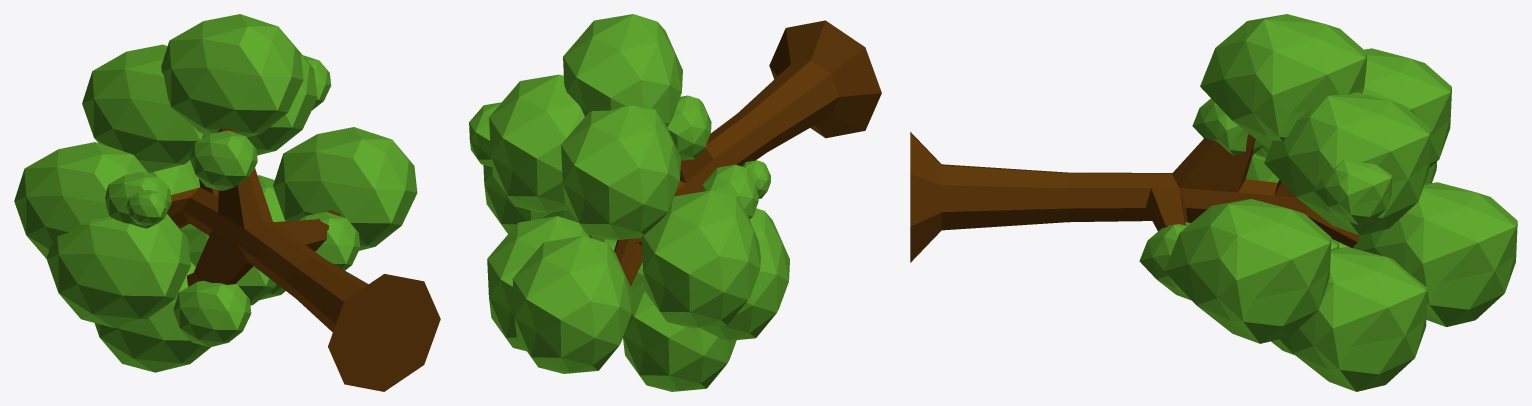
File: tree.fbx
The picture shows the model from 3 angles, left to right: view 1: azimuth 30°, elevation 25°; view 2: azimuth 150°, elevation 25°; view 3: azimuth 270°, elevation 25°; orthographic projection. The views are drawn at different scales.
Visible parts, largest first — view 1: Cylinder; view 2: Cylinder; view 3: Cylinder.
Boxes of the visible parts, x1,y1,x2,y2 form: Cylinder: (14,14,440,391); Cylinder: (469,14,881,391); Cylinder: (910,14,1517,391).
Bounding box in the file's own units: 456 × 465 × 693.
